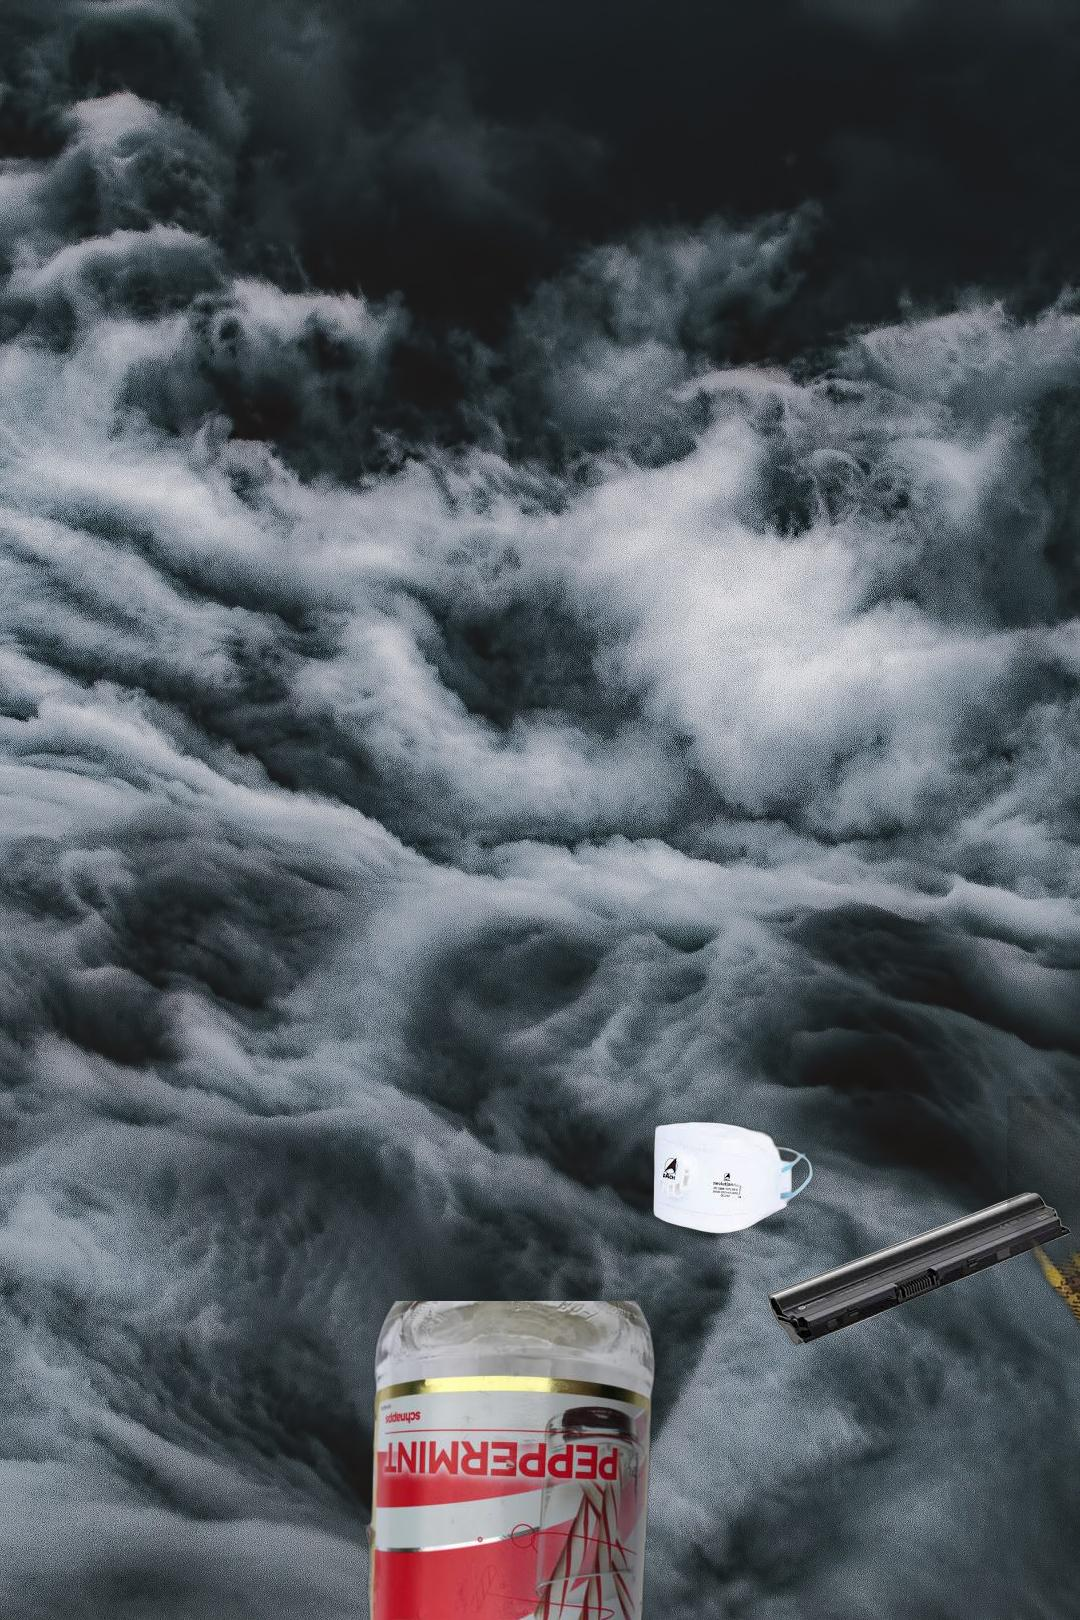battery: (765, 1191, 1072, 1350)
glass: (358, 1301, 659, 1620)
plastic-bottles: (1006, 1096, 1080, 1620)
trash: (650, 1079, 832, 1235)
